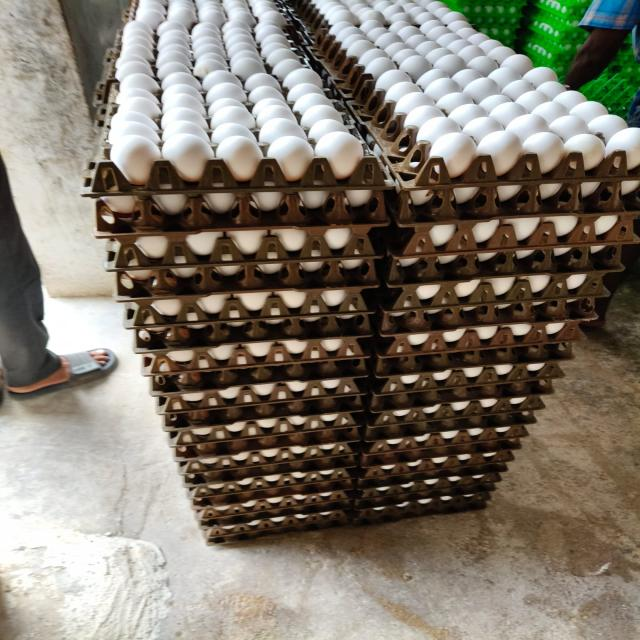egg_tray: (330, 11, 639, 177), (86, 59, 364, 195), (358, 87, 639, 201), (86, 133, 389, 230), (315, 7, 586, 113), (85, 100, 377, 197), (110, 228, 377, 329), (312, 5, 565, 102), (84, 118, 379, 198), (82, 133, 392, 209), (331, 53, 606, 138), (82, 151, 392, 226), (85, 118, 370, 198), (117, 236, 367, 326), (386, 142, 639, 226), (380, 245, 621, 332), (350, 67, 626, 142), (101, 68, 354, 147), (107, 227, 377, 300), (379, 245, 622, 326), (95, 19, 300, 106), (386, 212, 636, 283), (169, 412, 358, 504), (94, 180, 387, 238), (161, 359, 365, 442), (423, 54, 623, 138), (165, 412, 361, 497), (117, 258, 378, 320), (103, 2, 303, 82), (103, 2, 301, 81), (127, 286, 371, 350), (103, 0, 298, 80), (135, 328, 370, 394), (169, 415, 358, 497), (134, 287, 372, 351), (389, 165, 638, 226), (105, 226, 381, 280), (377, 272, 608, 335), (300, 3, 489, 79), (363, 385, 543, 464), (128, 288, 373, 346), (378, 273, 608, 334), (366, 355, 562, 426), (386, 212, 636, 266), (123, 286, 369, 340), (106, 225, 381, 271), (175, 427, 357, 494), (311, 43, 450, 130), (361, 397, 543, 463), (115, 259, 379, 302), (387, 182, 638, 227), (379, 244, 622, 290), (97, 21, 229, 104), (134, 314, 373, 359), (173, 438, 356, 496), (367, 361, 563, 415), (158, 378, 365, 427), (354, 450, 513, 513), (365, 381, 553, 434), (125, 290, 373, 330), (358, 420, 527, 478), (164, 381, 364, 430), (155, 375, 363, 422), (188, 468, 354, 524), (186, 456, 355, 510), (164, 402, 362, 448), (142, 336, 369, 376), (358, 421, 528, 473), (164, 409, 363, 453), (188, 468, 354, 519), (378, 298, 595, 337), (179, 441, 357, 488), (375, 318, 583, 358), (377, 298, 595, 336), (151, 358, 367, 396), (179, 448, 356, 494), (175, 440, 356, 484), (359, 420, 528, 467), (156, 376, 363, 414), (359, 422, 528, 467), (165, 412, 362, 450), (164, 404, 362, 441), (370, 342, 573, 378), (187, 467, 354, 510), (172, 431, 358, 469), (361, 424, 528, 466), (370, 361, 563, 397), (92, 26, 154, 134), (367, 376, 553, 412), (187, 468, 354, 508), (201, 500, 351, 544), (196, 494, 350, 536), (192, 486, 353, 526), (194, 487, 350, 528), (203, 502, 353, 544), (365, 395, 544, 429), (357, 451, 514, 489), (194, 486, 350, 524), (195, 491, 351, 528), (172, 429, 358, 460), (353, 484, 496, 524), (363, 410, 536, 442), (203, 508, 352, 545), (311, 40, 376, 124), (354, 483, 490, 523), (353, 485, 491, 524), (125, 0, 288, 33), (203, 509, 352, 545), (358, 450, 514, 484), (354, 472, 501, 508), (191, 486, 351, 519), (203, 510, 351, 545), (204, 510, 351, 545), (355, 473, 501, 508), (206, 510, 351, 543), (334, 80, 389, 161), (354, 492, 491, 524), (356, 471, 501, 500), (302, 34, 353, 108), (295, 228, 372, 275), (307, 28, 357, 99), (526, 0, 583, 61), (309, 30, 357, 99), (92, 28, 122, 129), (521, 18, 575, 74), (92, 32, 121, 129), (457, 0, 526, 39), (276, 0, 314, 61), (92, 29, 122, 106), (228, 24, 266, 72), (274, 0, 310, 45), (365, 49, 410, 83), (425, 472, 499, 490), (123, 26, 154, 68), (189, 232, 233, 257), (293, 2, 323, 36), (93, 79, 111, 135), (93, 82, 110, 135), (386, 473, 436, 488), (231, 232, 269, 250), (418, 225, 457, 242), (590, 116, 623, 136), (168, 264, 199, 284), (133, 98, 161, 119), (281, 478, 316, 494), (240, 384, 276, 397), (354, 206, 379, 223), (252, 3, 271, 25), (474, 464, 506, 477), (121, 0, 139, 23), (126, 269, 155, 283), (286, 381, 308, 399), (121, 2, 137, 25), (307, 414, 338, 425), (198, 410, 228, 421), (477, 220, 500, 234), (220, 265, 241, 280), (333, 258, 364, 268), (184, 215, 207, 228), (436, 468, 463, 479), (297, 3, 311, 24), (457, 188, 475, 204), (275, 63, 297, 76), (617, 44, 631, 63), (156, 213, 180, 224), (475, 60, 497, 72), (220, 388, 241, 400), (111, 200, 130, 213), (430, 227, 451, 237), (395, 410, 421, 418), (279, 136, 304, 144), (141, 7, 155, 21), (121, 10, 134, 25), (581, 183, 597, 195), (366, 269, 377, 286), (407, 56, 425, 66), (440, 100, 456, 111), (278, 416, 300, 424), (438, 94, 455, 104), (479, 329, 496, 339), (182, 393, 195, 406), (100, 87, 113, 100), (623, 179, 637, 191), (538, 226, 550, 240), (387, 83, 402, 94), (311, 92, 329, 101), (530, 382, 546, 392), (491, 48, 507, 58), (398, 44, 410, 57), (279, 416, 301, 423), (365, 158, 379, 169), (287, 327, 303, 336), (561, 92, 577, 101), (228, 82, 244, 91), (213, 78, 225, 90), (176, 162, 189, 173), (341, 413, 355, 423), (619, 77, 628, 92), (555, 230, 567, 241), (222, 220, 238, 228), (441, 101, 455, 110), (140, 344, 161, 350), (279, 136, 300, 142), (485, 40, 499, 49), (241, 420, 252, 431), (99, 88, 109, 100), (327, 379, 339, 389), (334, 2, 347, 11), (470, 71, 482, 80), (428, 158, 441, 166), (362, 486, 375, 494), (281, 162, 290, 173), (504, 441, 518, 448), (290, 487, 306, 493), (230, 423, 238, 435), (389, 477, 405, 483), (250, 263, 257, 276), (451, 84, 461, 93), (277, 424, 288, 432), (253, 385, 267, 391), (482, 330, 491, 339), (343, 376, 353, 384), (289, 50, 297, 60), (342, 414, 352, 422), (121, 72, 134, 78), (370, 474, 383, 480), (314, 363, 325, 370), (246, 325, 257, 332), (311, 262, 326, 267), (543, 384, 552, 392), (612, 216, 620, 225), (421, 463, 430, 471), (121, 16, 130, 24), (403, 233, 412, 241), (149, 118, 157, 127), (336, 229, 350, 234), (208, 328, 218, 335), (112, 201, 122, 208), (186, 151, 193, 161), (481, 61, 492, 67), (497, 369, 510, 374), (184, 442, 200, 446), (189, 94, 197, 102), (213, 126, 220, 135), (336, 472, 345, 479), (254, 92, 261, 101), (403, 479, 413, 485), (276, 263, 286, 269), (133, 56, 143, 62), (272, 516, 282, 522), (405, 480, 420, 484), (144, 237, 163, 240), (271, 420, 278, 428), (431, 89, 439, 96), (114, 201, 122, 208), (355, 43, 366, 48), (218, 498, 229, 503), (329, 119, 340, 124), (312, 211, 323, 216), (555, 126, 564, 132), (166, 146, 172, 155), (545, 185, 554, 191), (624, 229, 630, 238), (350, 16, 356, 25), (491, 464, 504, 468), (300, 69, 313, 73), (217, 98, 234, 101), (293, 385, 303, 390), (179, 329, 184, 339), (330, 119, 340, 124), (313, 219, 323, 224), (103, 92, 110, 99), (318, 390, 325, 397), (150, 219, 157, 226), (299, 505, 306, 512), (436, 8, 448, 12), (308, 196, 314, 204), (356, 218, 368, 222), (300, 23, 306, 31), (521, 156, 526, 165), (266, 221, 275, 226), (264, 92, 273, 97), (388, 6, 399, 10), (267, 98, 278, 102), (180, 374, 201, 376), (463, 68, 470, 74), (132, 258, 139, 264), (144, 120, 150, 127), (356, 328, 363, 334), (114, 202, 121, 208), (146, 83, 152, 90), (620, 104, 626, 111), (395, 94, 402, 100), (162, 377, 167, 385), (369, 264, 373, 274), (299, 514, 307, 519), (217, 145, 222, 153), (567, 216, 572, 224), (291, 484, 296, 492), (269, 474, 279, 478), (209, 522, 218, 526), (423, 44, 432, 48), (435, 96, 441, 102), (478, 184, 490, 187), (403, 262, 412, 266), (438, 8, 447, 12), (331, 6, 340, 10), (247, 502, 253, 508), (416, 496, 425, 500), (283, 120, 292, 124), (418, 452, 425, 457), (412, 58, 419, 63), (121, 63, 128, 68), (325, 493, 332, 498), (215, 428, 226, 431), (441, 80, 452, 83), (360, 44, 368, 48), (204, 381, 210, 386), (403, 107, 409, 112), (476, 458, 482, 463), (229, 33, 234, 39), (352, 194, 357, 200), (519, 56, 525, 61), (364, 2, 369, 8), (530, 155, 537, 159), (154, 390, 161, 394), (582, 112, 589, 116), (611, 82, 618, 86), (214, 72, 228, 74), (551, 184, 558, 188), (365, 463, 374, 466), (217, 427, 226, 430), (244, 222, 253, 225), (242, 58, 251, 61), (139, 93, 148, 96), (365, 480, 374, 483), (202, 499, 207, 504), (528, 92, 533, 97), (258, 478, 263, 483), (603, 78, 608, 83), (445, 59, 451, 63), (389, 484, 395, 488), (340, 281, 348, 284), (382, 135, 388, 139), (507, 61, 513, 65), (470, 46, 474, 52), (463, 100, 469, 104), (231, 423, 237, 427), (245, 421, 251, 425), (433, 82, 439, 86), (316, 143, 319, 151), (394, 410, 406, 412), (253, 420, 259, 424), (464, 261, 468, 267), (534, 228, 538, 234), (441, 500, 447, 504), (269, 145, 273, 151), (209, 522, 215, 526), (276, 518, 283, 521), (574, 172, 581, 175), (310, 372, 317, 375), (422, 45, 429, 48), (483, 78, 490, 81), (203, 129, 206, 136), (501, 193, 508, 196), (289, 498, 293, 503), (219, 370, 229, 372), (208, 78, 212, 83), (561, 352, 566, 356), (490, 486, 495, 490), (183, 6, 188, 10), (487, 102, 491, 107), (287, 236, 291, 241), (175, 327, 180, 331), (346, 482, 350, 487), (176, 76, 181, 80), (316, 203, 321, 207), (257, 145, 261, 150), (378, 148, 383, 152), (300, 487, 305, 491), (537, 363, 543, 366), (116, 266, 122, 269), (573, 121, 579, 124), (185, 256, 191, 259), (248, 246, 254, 249), (311, 244, 313, 253), (296, 232, 299, 238), (137, 10, 140, 16), (235, 73, 241, 76), (264, 420, 270, 423), (232, 412, 238, 415), (195, 476, 201, 479), (623, 240, 632, 242), (299, 489, 305, 492), (477, 158, 481, 162), (567, 154, 571, 158), (566, 158, 570, 162), (291, 372, 299, 374), (434, 52, 438, 56), (295, 264, 299, 268), (279, 264, 283, 268), (421, 82, 425, 86), (490, 486, 494, 490), (346, 470, 350, 474), (355, 32, 359, 36), (346, 10, 350, 14), (459, 236, 463, 240), (265, 74, 269, 78), (329, 52, 333, 56), (441, 112, 446, 115), (373, 363, 376, 368), (434, 52, 439, 55), (293, 221, 298, 224), (125, 139, 130, 142), (523, 38, 528, 41), (176, 25, 181, 28), (431, 496, 436, 499), (381, 181, 384, 186), (354, 78, 357, 83), (570, 216, 577, 218), (221, 146, 223, 153), (225, 224, 232, 226), (138, 277, 145, 279), (327, 505, 331, 508), (154, 378, 158, 381), (169, 83, 173, 86), (143, 12, 146, 16), (487, 63, 491, 66), (550, 376, 556, 378), (538, 369, 541, 373), (378, 360, 384, 362), (375, 52, 379, 55), (254, 433, 258, 436), (483, 376, 486, 380), (282, 384, 285, 388), (188, 179, 194, 181), (114, 154, 116, 160), (274, 146, 277, 150), (176, 25, 180, 28), (253, 277, 257, 280), (369, 469, 375, 471), (396, 465, 402, 467), (323, 414, 329, 416), (383, 78, 386, 82), (160, 2, 163, 6), (143, 0, 146, 4), (257, 281, 261, 284), (300, 490, 306, 492), (436, 406, 439, 410), (351, 136, 355, 139), (467, 191, 471, 194), (419, 136, 423, 139), (450, 491, 454, 494), (461, 470, 465, 473), (220, 483, 231, 484), (599, 167, 604, 169), (516, 166, 521, 168), (129, 26, 131, 31), (134, 25, 139, 27), (309, 426, 314, 428), (177, 78, 182, 80), (359, 8, 364, 10), (381, 184, 386, 186), (225, 122, 235, 123), (211, 148, 213, 153), (292, 490, 297, 492), (478, 265, 480, 270), (203, 130, 205, 135), (145, 219, 147, 224), (337, 145, 339, 150), (372, 180, 377, 182), (240, 456, 245, 458), (481, 52, 483, 57), (444, 494, 449, 496), (316, 145, 318, 150), (366, 462, 369, 465), (358, 328, 361, 331), (407, 47, 410, 50), (316, 204, 319, 207), (353, 196, 356, 199), (296, 518, 299, 521), (174, 3, 177, 6), (202, 141, 205, 144), (369, 156, 372, 159), (290, 214, 293, 217), (614, 216, 617, 219), (314, 3, 317, 6), (482, 495, 485, 498), (625, 100, 628, 103), (272, 87, 275, 90), (330, 151, 333, 154), (447, 105, 450, 108), (425, 166, 429, 168), (186, 452, 188, 456), (541, 380, 545, 382), (490, 389, 494, 391), (125, 86, 129, 88), (207, 3, 211, 5), (306, 395, 308, 399), (347, 10, 349, 14), (472, 470, 476, 472), (223, 500, 227, 502), (370, 284, 374, 286), (283, 452, 285, 456), (198, 3, 202, 5), (327, 134, 331, 136), (427, 414, 431, 416), (301, 404, 305, 406), (359, 210, 363, 212), (503, 197, 507, 199), (410, 153, 412, 157), (441, 120, 445, 122), (479, 236, 483, 238), (567, 16, 569, 20), (179, 416, 183, 418), (297, 480, 301, 482), (227, 90, 231, 92), (296, 14, 298, 18), (499, 156, 503, 158), (196, 249, 203, 250), (227, 122, 234, 123), (190, 82, 193, 84), (457, 63, 459, 66), (477, 474, 483, 475), (371, 283, 373, 286), (163, 270, 166, 272), (141, 242, 144, 244), (273, 327, 275, 330), (577, 131, 580, 133), (559, 122, 562, 124), (354, 46, 357, 48), (266, 432, 269, 434), (140, 334, 142, 337), (205, 7, 208, 9), (125, 166, 127, 169), (127, 28, 130, 30), (198, 286, 201, 288), (366, 469, 369, 471), (251, 336, 254, 338), (262, 495, 265, 497), (460, 94, 463, 96), (271, 483, 274, 485), (200, 127, 203, 129), (319, 121, 321, 124), (292, 115, 294, 118), (335, 111, 338, 113), (280, 484, 283, 486), (356, 27, 358, 30), (345, 26, 348, 28), (217, 128, 220, 130), (132, 220, 135, 222), (240, 211, 243, 213), (292, 209, 294, 212), (244, 207, 246, 210), (323, 303, 325, 306), (460, 193, 462, 196), (459, 243, 461, 246), (313, 265, 316, 267), (426, 497, 428, 500), (249, 497, 251, 500), (299, 496, 301, 499), (442, 489, 445, 491), (434, 489, 436, 492), (270, 188, 273, 190), (236, 101, 239, 103), (306, 98, 308, 101), (331, 120, 334, 122), (250, 501, 252, 504), (132, 271, 135, 273), (204, 499, 206, 502), (476, 394, 481, 395), (134, 78, 139, 79), (374, 63, 379, 64), (378, 436, 383, 437), (334, 132, 339, 133), (292, 143, 297, 144), (438, 174, 439, 178), (472, 166, 474, 168), (431, 166, 433, 168), (259, 282, 261, 284), (447, 131, 451, 132), (512, 127, 516, 128), (381, 55, 383, 57), (423, 234, 425, 236), (245, 397, 247, 399), (351, 382, 353, 384), (141, 82, 145, 83), (254, 282, 256, 284), (223, 260, 225, 262), (206, 247, 208, 249), (387, 465, 391, 466), (245, 496, 247, 498), (525, 94, 527, 96), (310, 453, 312, 455), (210, 198, 212, 200), (330, 152, 332, 154), (339, 132, 343, 133), (351, 24, 353, 26), (316, 196, 317, 200), (310, 196, 311, 200), (141, 125, 145, 126), (236, 174, 240, 175), (361, 142, 363, 144), (330, 290, 332, 292), (503, 190, 507, 191), (406, 149, 410, 150), (343, 505, 347, 506), (607, 222, 609, 224), (602, 220, 604, 222), (292, 459, 294, 461), (544, 42, 546, 44), (443, 9, 445, 11), (134, 28, 136, 30), (177, 226, 179, 228), (305, 142, 307, 144), (557, 234, 561, 235), (170, 4, 171, 8), (276, 474, 279, 475), (232, 82, 235, 83), (143, 73, 146, 74), (478, 98, 481, 99), (446, 53, 449, 54), (537, 390, 540, 391), (461, 389, 464, 390), (385, 330, 388, 331), (223, 271, 226, 272), (361, 317, 362, 320), (532, 132, 535, 133), (271, 492, 274, 493), (170, 78, 173, 79), (140, 93, 143, 94), (578, 94, 581, 95), (308, 205, 311, 206), (196, 125, 199, 126), (296, 452, 299, 453), (314, 222, 317, 223), (158, 150, 159, 153), (285, 120, 288, 121), (137, 40, 140, 41), (532, 291, 535, 292), (323, 320, 326, 321), (445, 10, 448, 11), (426, 511, 429, 512), (631, 91, 632, 94), (574, 29, 575, 32), (145, 116, 148, 117), (299, 107, 302, 108), (185, 78, 186, 80), (161, 34, 162, 36), (167, 27, 168, 29), (327, 42, 328, 44), (169, 276, 171, 277), (321, 271, 323, 272), (569, 130, 570, 132), (430, 74, 431, 76), (595, 267, 597, 268), (426, 511, 428, 512), (383, 20, 385, 21), (151, 70, 152, 72), (132, 3, 134, 4), (267, 269, 269, 270), (190, 334, 191, 336), (189, 336, 191, 337), (333, 420, 334, 422), (265, 471, 266, 473), (582, 96, 583, 98), (175, 336, 177, 337), (346, 283, 348, 284), (176, 278, 177, 280), (240, 520, 242, 521), (142, 125, 144, 126), (177, 122, 179, 123), (340, 116, 341, 118), (187, 16, 188, 18), (293, 154, 294, 156), (507, 403, 508, 405), (327, 406, 328, 408), (242, 416, 244, 417), (372, 47, 374, 48), (353, 25, 355, 26), (366, 45, 368, 46), (351, 189, 353, 190), (376, 159, 377, 161), (289, 132, 291, 133), (196, 125, 198, 126), (178, 122, 179, 124), (169, 229, 171, 230), (333, 147, 335, 148), (285, 136, 287, 137), (236, 136, 237, 138), (509, 196, 511, 197), (225, 463, 227, 464), (198, 316, 199, 318), (149, 91, 151, 92), (400, 503, 402, 504), (283, 474, 284, 476), (316, 205, 318, 206), (136, 102, 137, 104), (270, 154, 272, 155), (203, 142, 205, 143), (443, 105, 445, 106), (634, 170, 636, 171), (279, 23, 281, 24), (311, 488, 312, 489), (261, 458, 262, 459), (178, 438, 179, 439), (218, 74, 219, 75), (431, 401, 432, 402), (591, 101, 592, 102), (386, 63, 387, 64), (437, 47, 438, 48), (360, 45, 361, 46), (298, 407, 299, 408), (351, 398, 352, 399), (291, 276, 292, 277), (258, 274, 259, 275), (149, 129, 150, 130), (342, 125, 343, 126), (194, 136, 195, 137), (429, 398, 430, 399), (238, 125, 239, 126), (340, 116, 341, 117), (245, 216, 246, 217), (267, 209, 268, 210), (368, 194, 369, 195), (138, 189, 139, 190), (416, 429, 417, 430), (294, 474, 295, 475), (354, 196, 355, 197), (303, 96, 304, 97), (318, 143, 319, 144), (296, 125, 297, 126), (276, 263, 277, 264), (518, 172, 520, 172), (419, 144, 419, 146), (421, 143, 421, 144), (549, 392, 550, 392), (323, 381, 324, 381), (184, 443, 185, 443), (325, 434, 326, 434), (135, 96, 143, 96), (143, 30, 143, 30), (434, 112, 434, 113), (392, 36, 392, 37), (434, 454, 435, 454), (505, 386, 506, 386), (484, 474, 489, 474), (336, 283, 337, 283), (279, 283, 281, 283), (325, 274, 326, 274), (165, 265, 165, 266), (298, 323, 299, 323), (510, 350, 510, 350), (561, 136, 563, 136), (538, 121, 538, 122), (330, 63, 330, 64), (445, 54, 449, 54), (172, 436, 172, 436), (410, 481, 410, 481), (488, 490, 490, 490), (456, 250, 458, 250), (294, 430, 294, 430), (494, 332, 494, 332), (196, 396, 197, 396), (343, 387, 343, 388), (356, 516, 357, 516), (134, 183, 135, 183), (292, 148, 292, 148), (150, 79, 150, 79), (605, 111, 605, 113), (374, 12, 374, 12), (401, 10, 401, 10), (325, 278, 325, 279), (303, 276, 303, 277), (260, 272, 261, 272), (328, 268, 330, 268), (121, 262, 121, 264), (505, 452, 508, 452), (323, 476, 323, 476), (260, 474, 262, 474), (496, 470, 500, 470), (454, 83, 454, 83), (247, 496, 247, 496), (226, 492, 228, 492), (156, 332, 157, 332), (222, 330, 224, 330), (118, 212, 126, 212), (339, 114, 339, 115), (287, 108, 287, 108), (178, 10, 179, 10), (182, 8, 183, 8), (201, 3, 205, 3), (190, 156, 192, 156), (225, 154, 226, 154), (134, 154, 134, 155), (208, 147, 208, 148), (134, 141, 134, 141), (290, 123, 290, 123), (331, 121, 333, 121), (230, 274, 232, 274), (223, 274, 227, 274), (337, 450, 337, 450), (434, 412, 434, 412), (156, 103, 157, 103), (427, 392, 427, 392), (603, 294, 606, 294), (312, 203, 313, 203), (214, 132, 214, 134), (247, 130, 248, 130), (149, 130, 150, 130), (292, 116, 294, 116), (330, 108, 332, 108), (178, 228, 179, 228), (210, 216, 210, 217), (334, 140, 334, 142), (163, 161, 163, 162), (301, 510, 303, 510), (141, 352, 141, 352), (518, 136, 520, 136), (274, 514, 275, 514), (287, 514, 289, 514), (572, 281, 572, 281), (574, 279, 576, 279), (614, 232, 614, 234), (599, 223, 600, 223), (565, 10, 565, 10), (223, 501, 224, 501), (179, 187, 179, 188), (263, 68, 263, 68), (134, 63, 141, 63), (449, 421, 451, 421), (450, 421, 450, 421), (129, 96, 131, 96), (130, 88, 130, 88), (138, 79, 140, 79), (119, 63, 121, 63), (365, 507, 365, 508), (401, 488, 404, 488), (359, 481, 362, 481), (248, 479, 249, 479), (120, 212, 125, 212), (309, 190, 311, 190), (210, 107, 210, 110), (99, 224, 99, 227), (107, 212, 108, 212), (177, 136, 177, 137), (410, 150, 410, 150), (234, 270, 234, 270), (298, 490, 298, 491)
